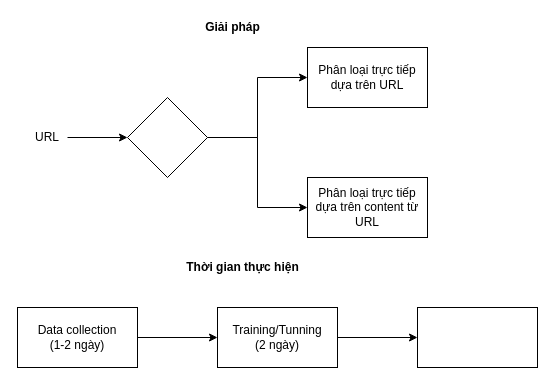
This 555x385 diagram has some shape labels left out. The shapes that lost their labels are listed below. From the top down, each one's centre as x and y in pixels, then its label:
At point (167, 137): "Page tiếng Anh/Việt".
At point (477, 337): "API (1 ngày)".
